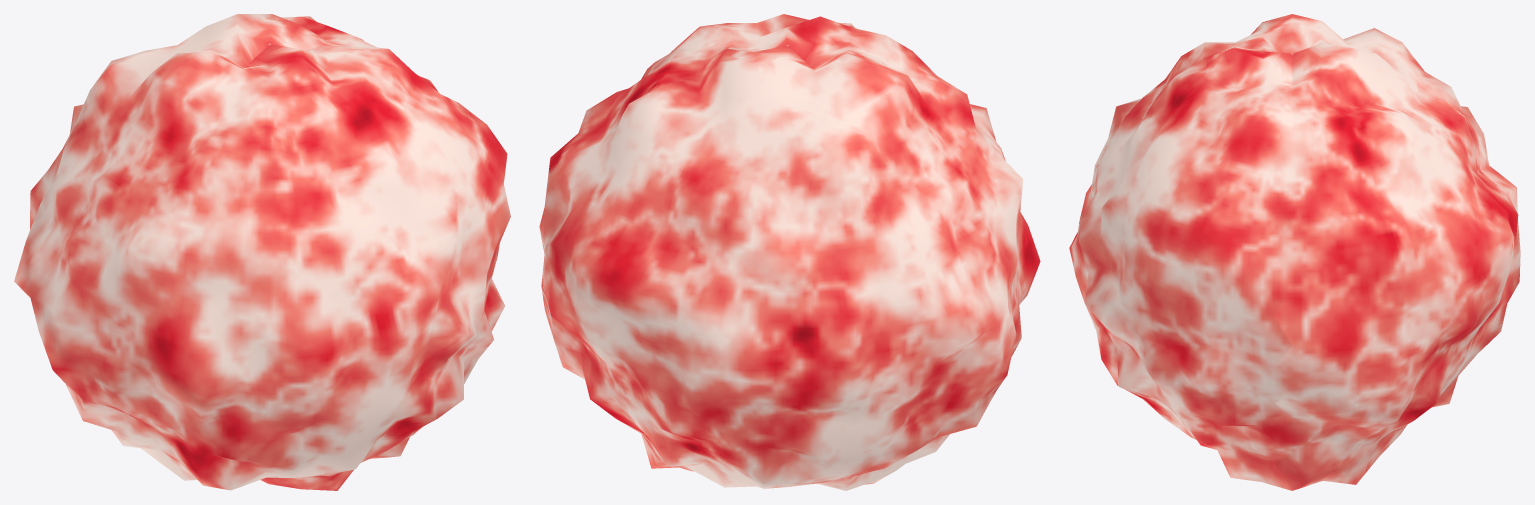
The model's file is fireball_crimson.glb.
The picture shows the model from 3 angles, left to right: view 1: azimuth 30°, elevation 25°; view 2: azimuth 150°, elevation 25°; view 3: azimuth 270°, elevation 25°; orthographic projection. The views are drawn at different scales.
Parts seen in each view (by area): view 1: fireball; view 2: fireball; view 3: fireball.
Part boxes in pixels (<box>): fireball: <box>14,14,510,490</box>; fireball: <box>539,14,1040,490</box>; fireball: <box>1069,14,1520,490</box>.
Size of the model in its own units: 2.29 by 2.14 by 2.2.
1 material, 1 textured.
